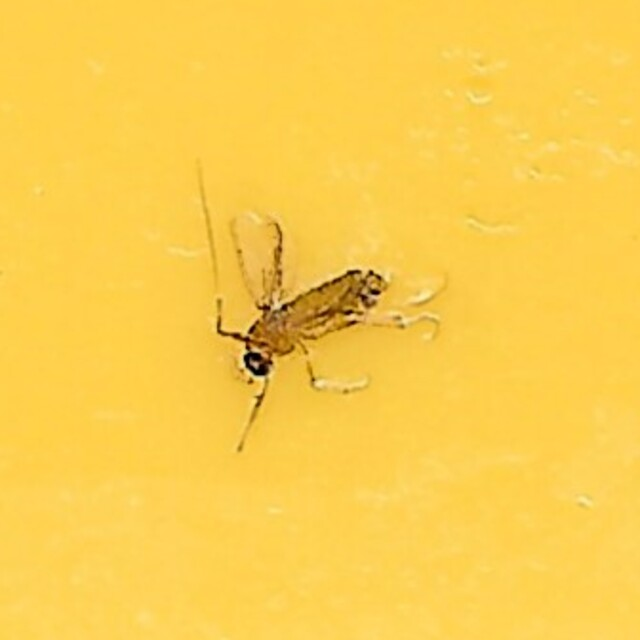Nematocera: (190, 188, 450, 452)
